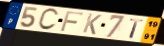5: (20, 5, 40, 28)
7: (106, 14, 127, 39)
C: (36, 8, 60, 32)
F: (59, 11, 85, 33)
K: (81, 12, 103, 36)
T: (128, 18, 145, 39)
